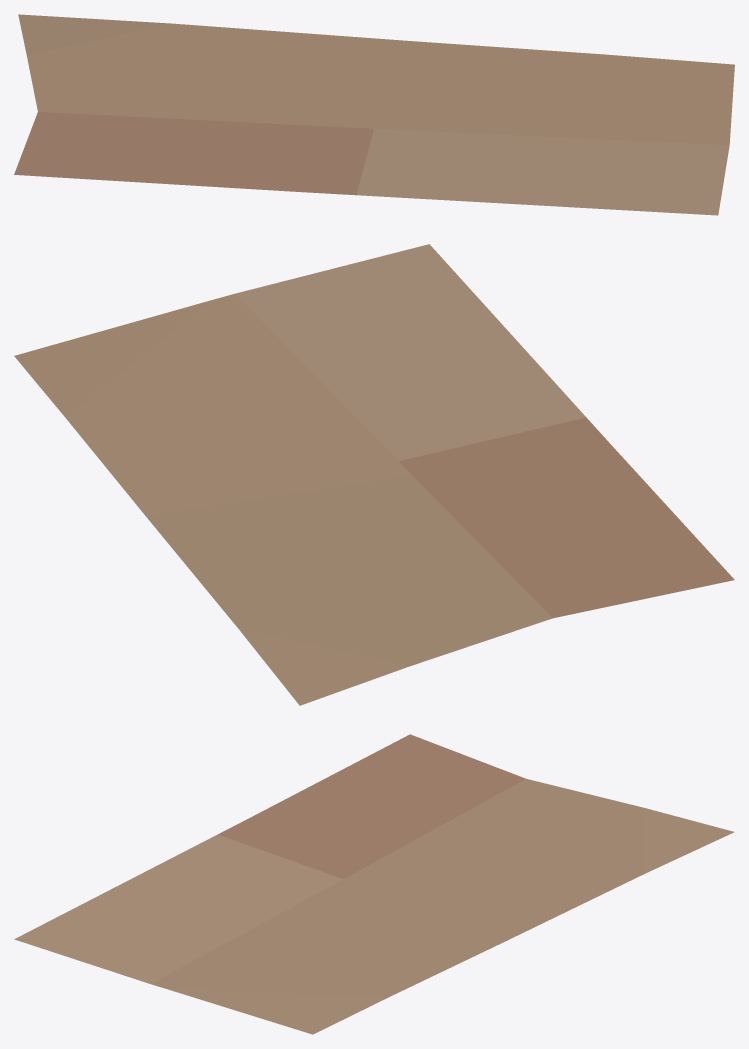
Rendered from farm_-9_2_soil.glb.
3 renders of one model, top to bottom at view 1: azimuth 30°, elevation 25°; view 2: azimuth 150°, elevation 25°; view 3: azimuth 270°, elevation 25°, orthographic. The views are drawn at different scales.
Parts seen in each view (by area): view 1: geometry_0; view 2: geometry_0; view 3: geometry_0.
Part boxes in pixels (<box>): geometry_0: <box>14,14,734,215</box>; geometry_0: <box>14,244,734,705</box>; geometry_0: <box>14,734,734,1034</box>.
Bounding box in the file's own units: 76.96 × 2.58 × 81.02.
